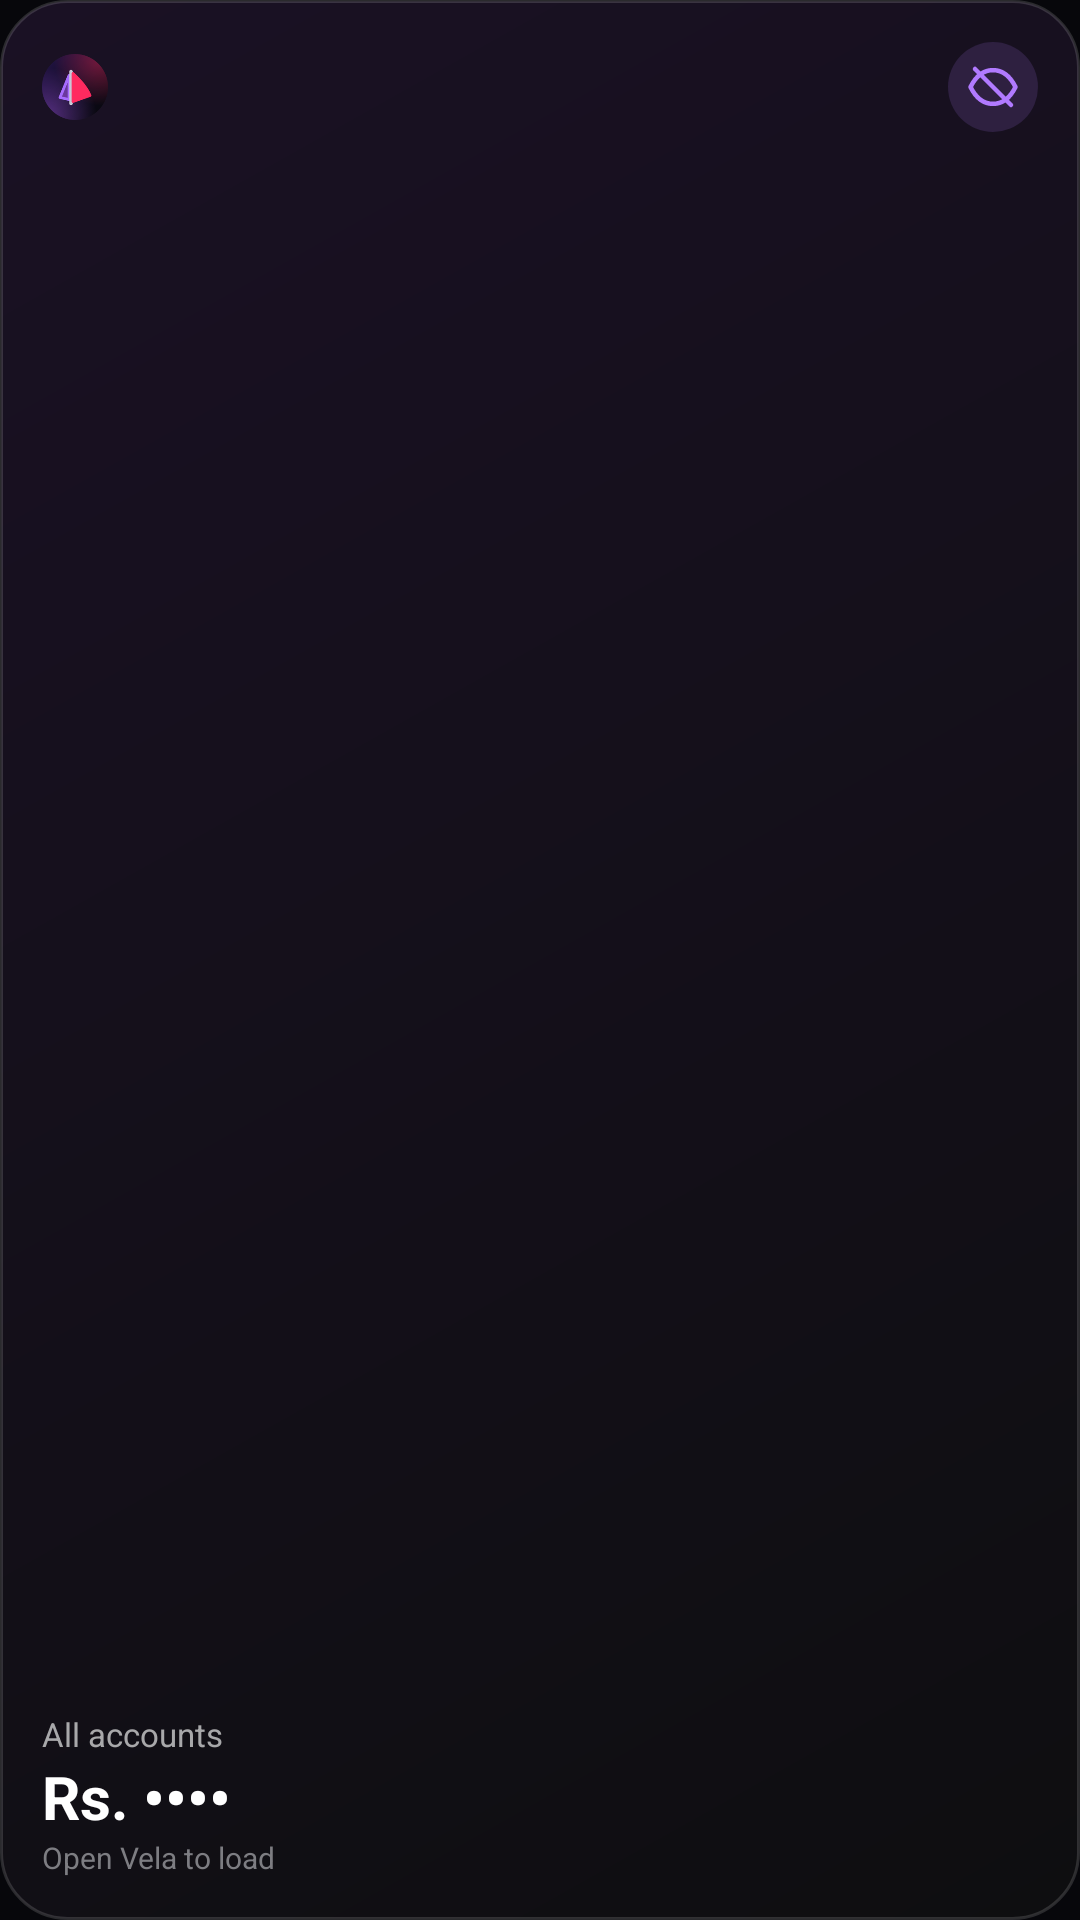

Named icons in this screenshot (1080px×1920px) and their bounding boxes, (x1, y1, x2, y2):
Show amounts: (948, 42, 1038, 132)
